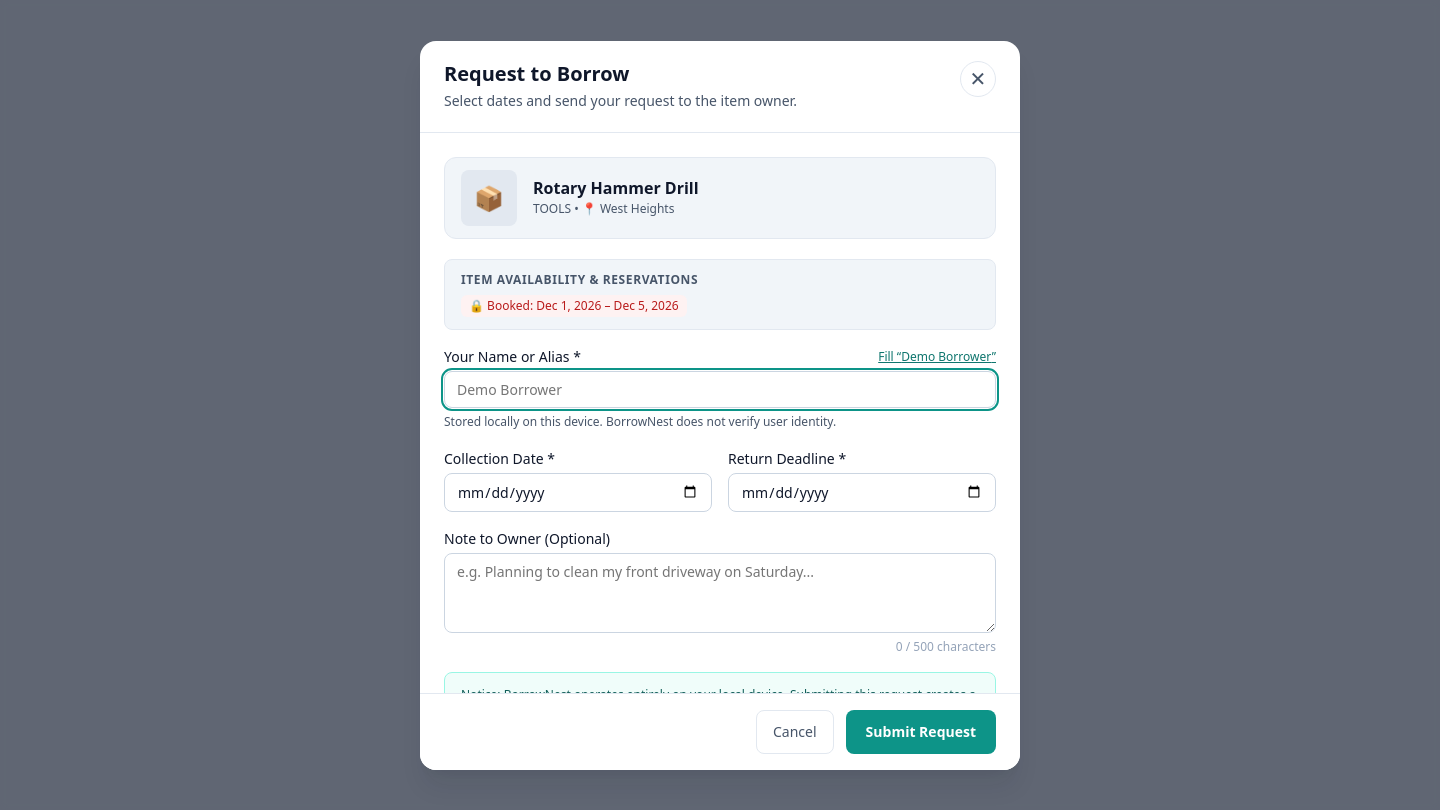
Test: BorrowRequestDialog UI and Validation › displays existing approved reservations and pre-validates against date overlaps
expect the list item "🔒 Booked: Dec 1, 2026 – Dec 5, 2026" is shown: met, box [461,295,687,317]
# Fill candidate overlapping dates: Dec 3 to Dec 8
In the field labelled "Your Name or Alias *": (720, 390) [444,371,996,408], type "Second Borrower"
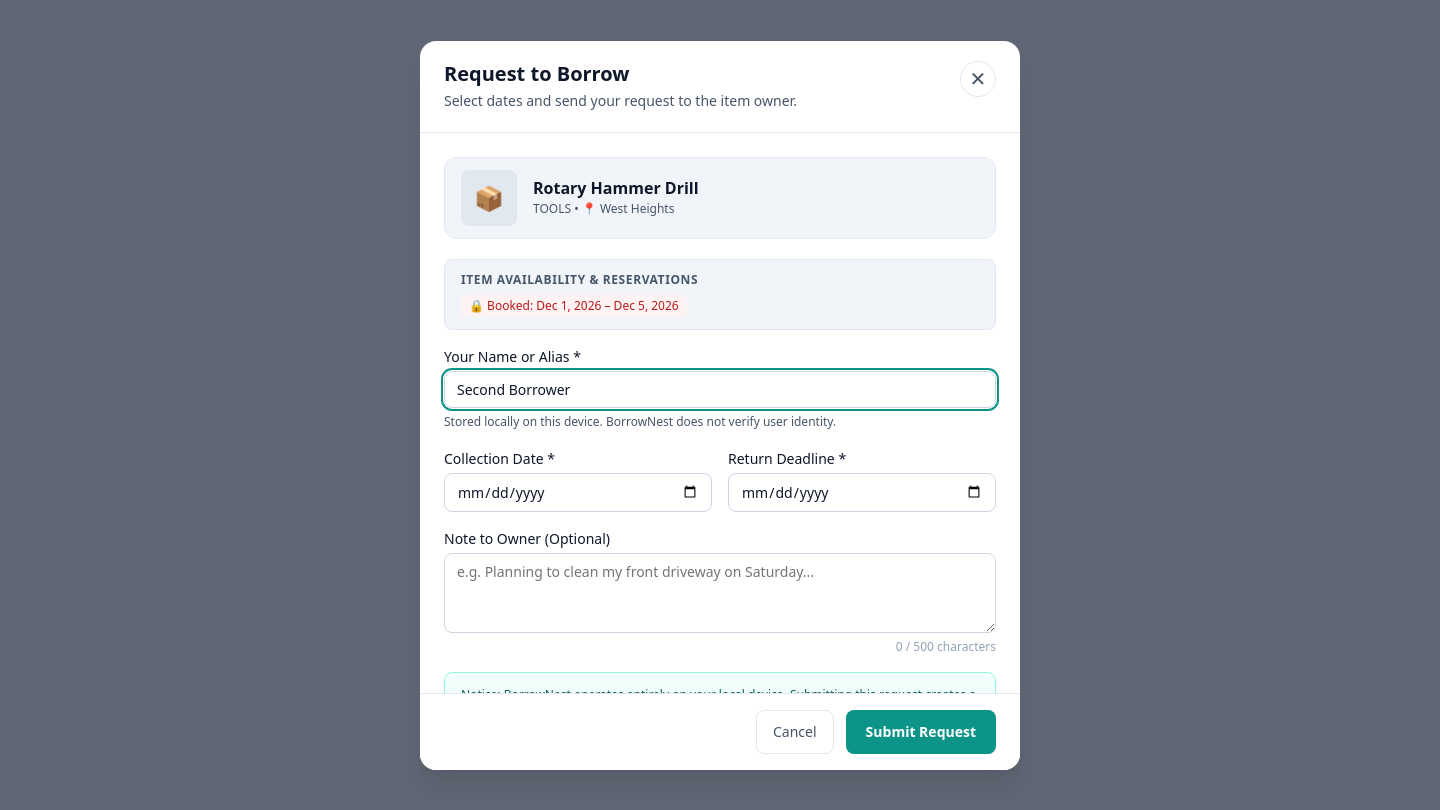
In the date field labelled "Collection Date *": (578, 492) [444,473,712,512], type "2026-12-03"
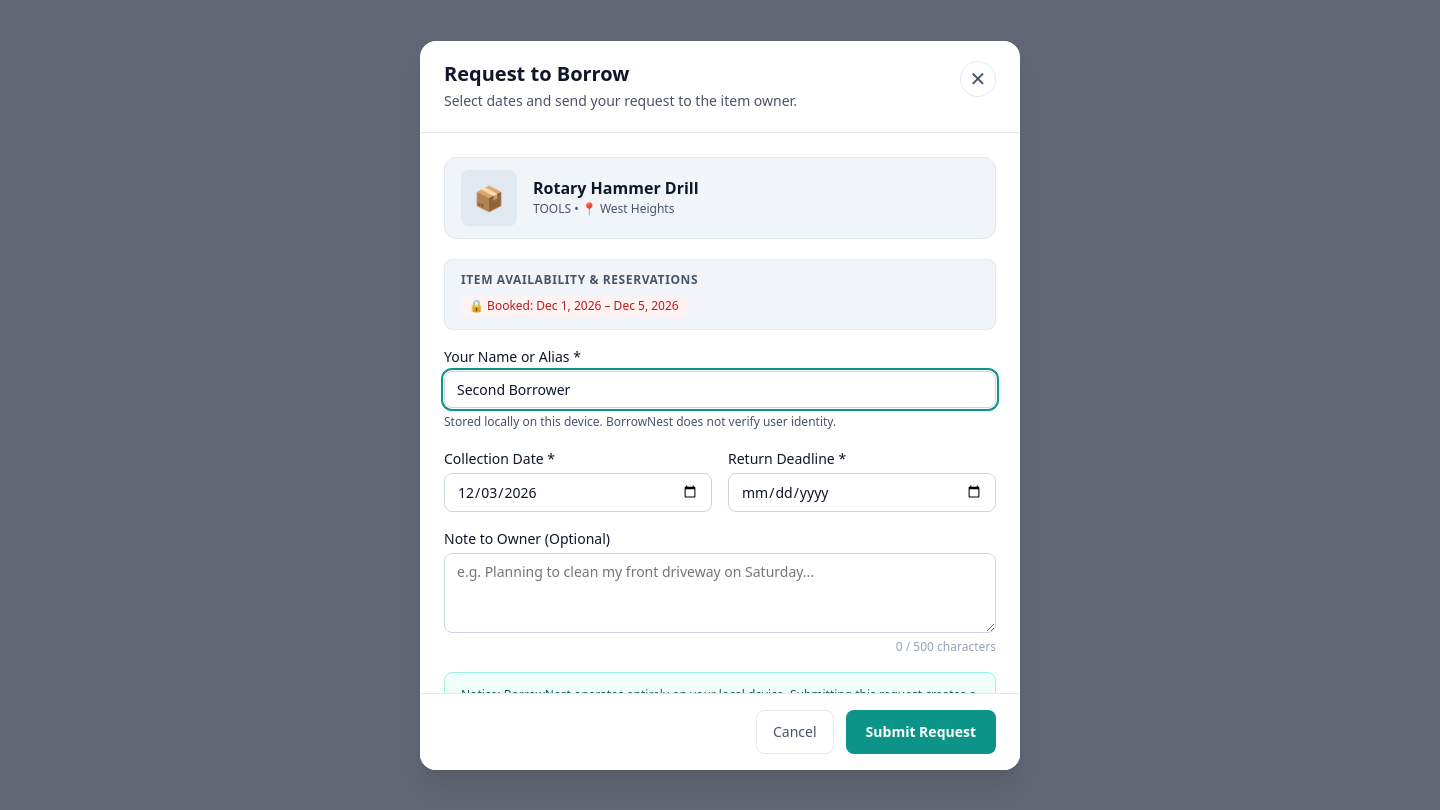
In the date field labelled "Return Deadline *": (862, 492) [728,473,996,512], type "2026-12-08"
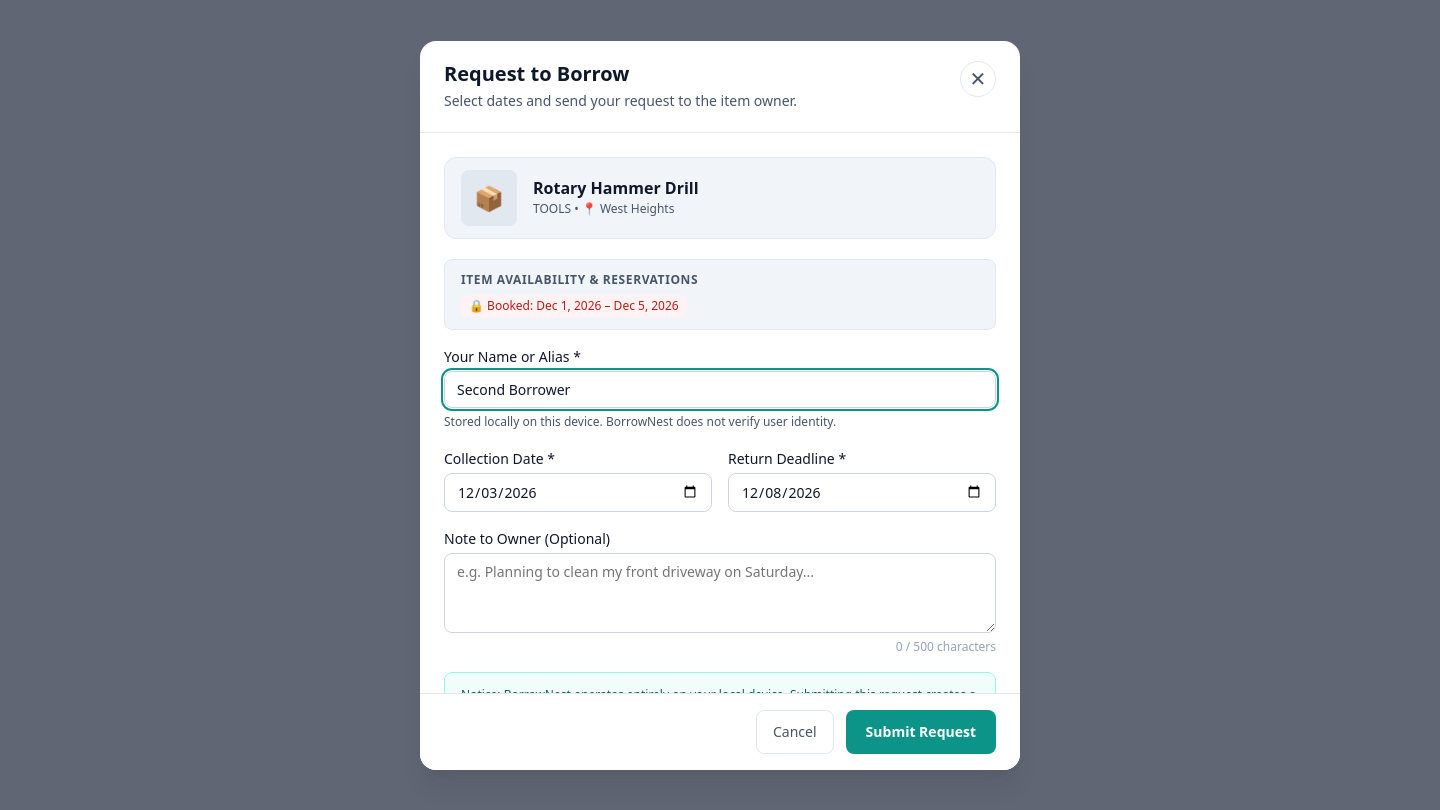
Click the button "Submit Request": (921, 732) [846,710,996,754]
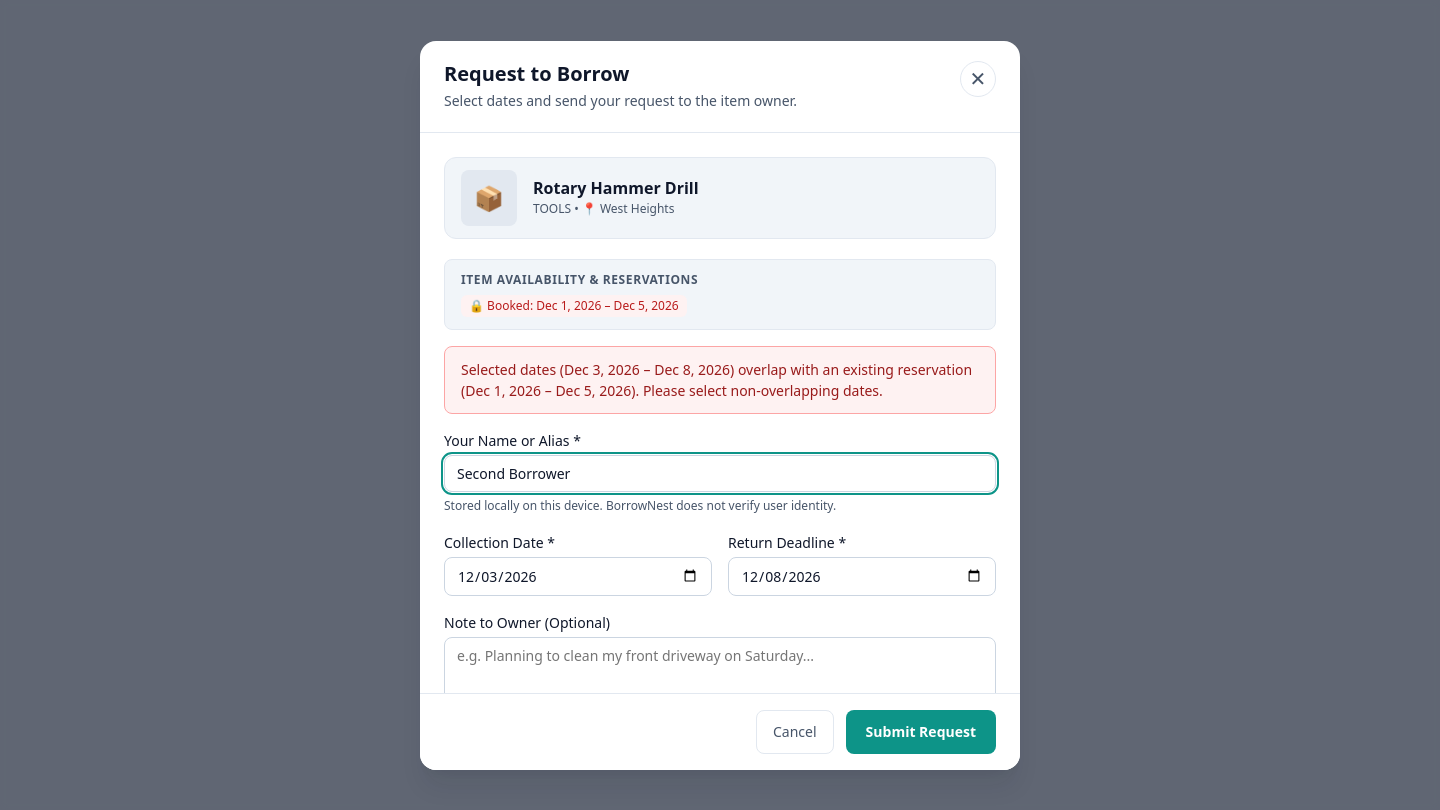
expect the text "overlap with an existing reservation" is shown: met, box [461,360,972,400]
